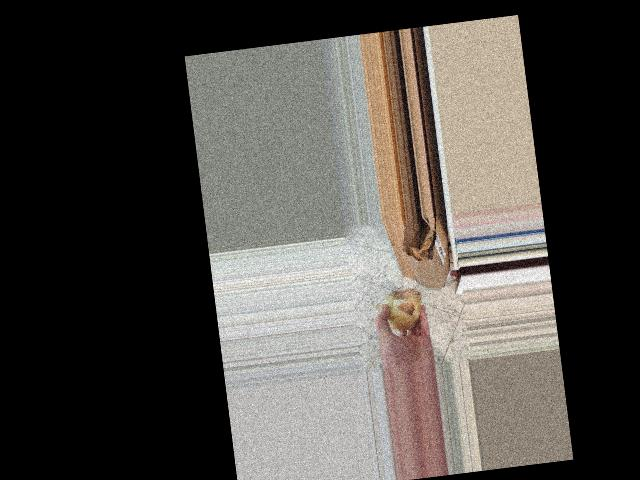onion: (373, 285, 426, 336)
